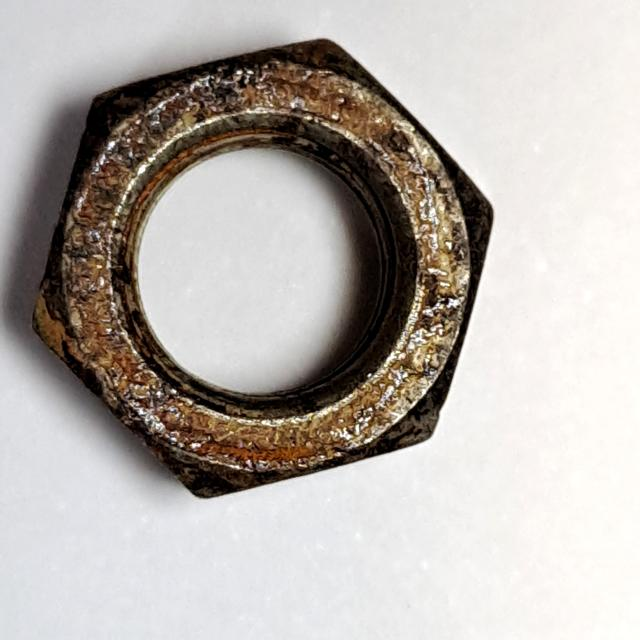Rust: (17, 34, 507, 513)
